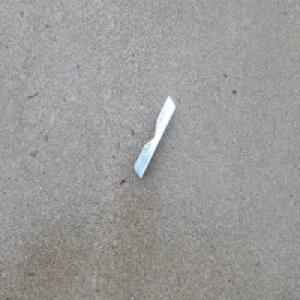ClampPart: (133, 94, 176, 180)
